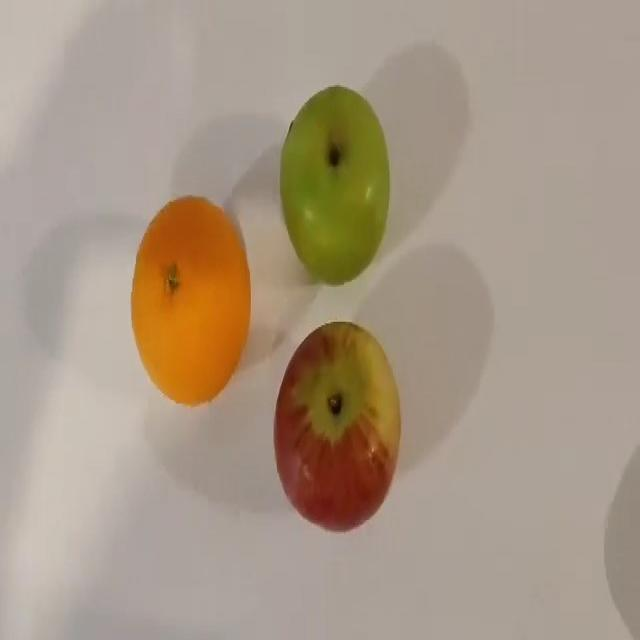Apple: (272, 320, 401, 532), (278, 84, 390, 285)
Orange: (130, 194, 251, 406)
